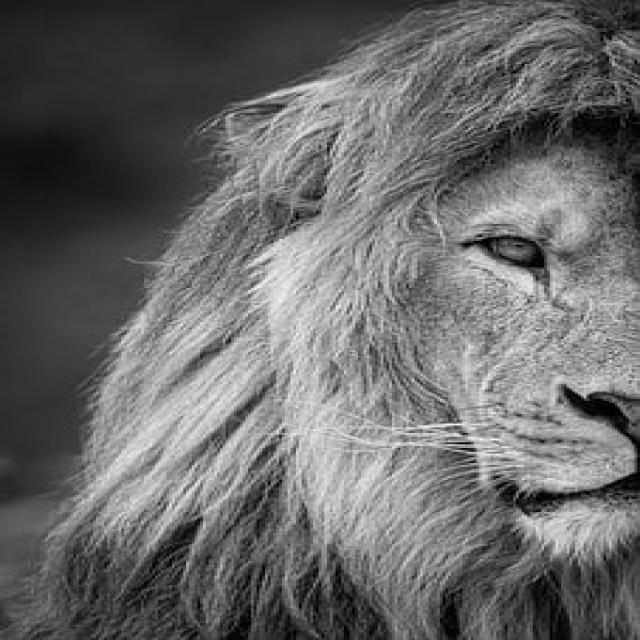Lion: (38, 0, 637, 638)
